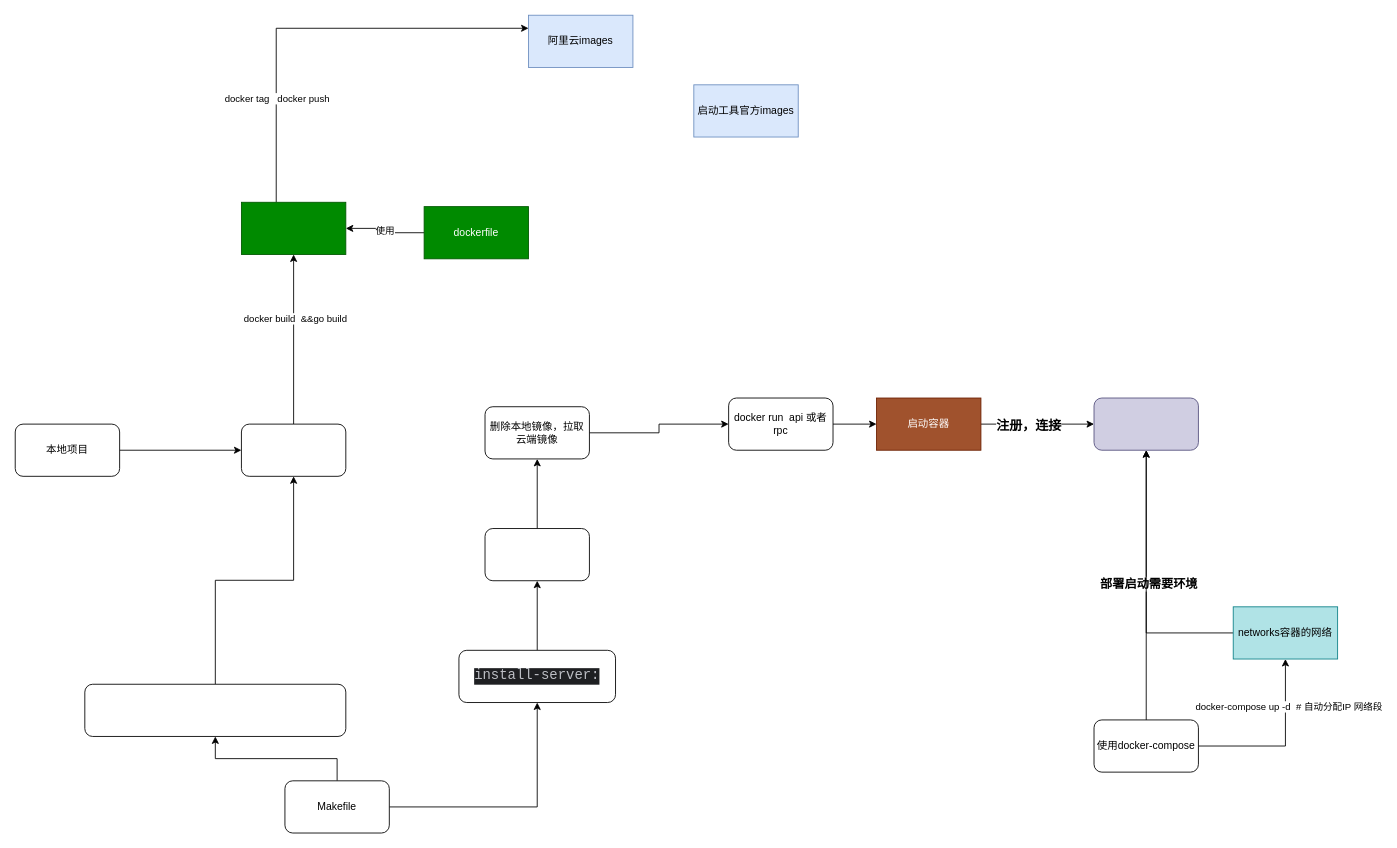
Some shapes in this 1397 by 848 pixel diagram are drawn without their labels. Here are the shapes that lost their labels. From the top down, the centre of each, then its label:
At pixel 293 227: "本地images".
At pixel 1145 423: "中间件etcd,mysql,redis".
At pixel 293 449: "rpc.mk，负责处理 go build,docker tag /push".
At pixel 536 554: "xx.sh脚本".
At pixel 215 709: "release-test: user-rpc-dev".
